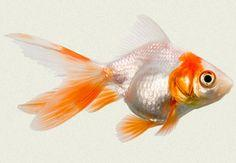goldfish: (28, 33, 234, 129)
